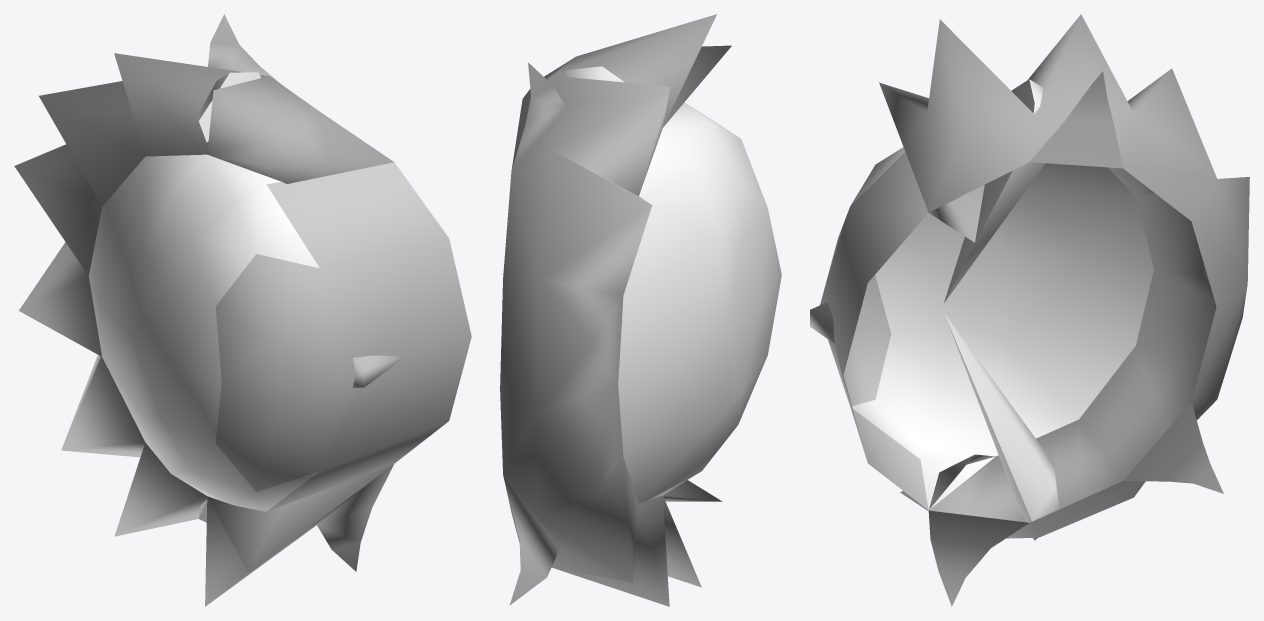
File: girl_msd_b.dae
3 renders of one model, left to right at view 1: azimuth 30°, elevation 25°; view 2: azimuth 150°, elevation 25°; view 3: azimuth 270°, elevation 25°, orthographic. The views are drawn at different scales.
Parts seen in each view (by area): view 1: vsn_mesh_1_, vsn_mesh_2_, vsn_mesh_0_; view 2: vsn_mesh_1_; view 3: vsn_mesh_1_, vsn_mesh_2_, vsn_mesh_0_.
Part boxes in pixels (box(x1,y1,x2,y2)): vsn_mesh_1_: box(14, 14, 393, 606); vsn_mesh_2_: box(266, 162, 471, 511); vsn_mesh_0_: box(215, 254, 344, 491); vsn_mesh_1_: box(500, 14, 781, 606); vsn_mesh_1_: box(851, 14, 1249, 606); vsn_mesh_2_: box(810, 152, 928, 509); vsn_mesh_0_: box(820, 208, 890, 406).
Bounding box in the file's own units: 16.14 × 30.43 × 23.36.
3 materials, 1 textured.
